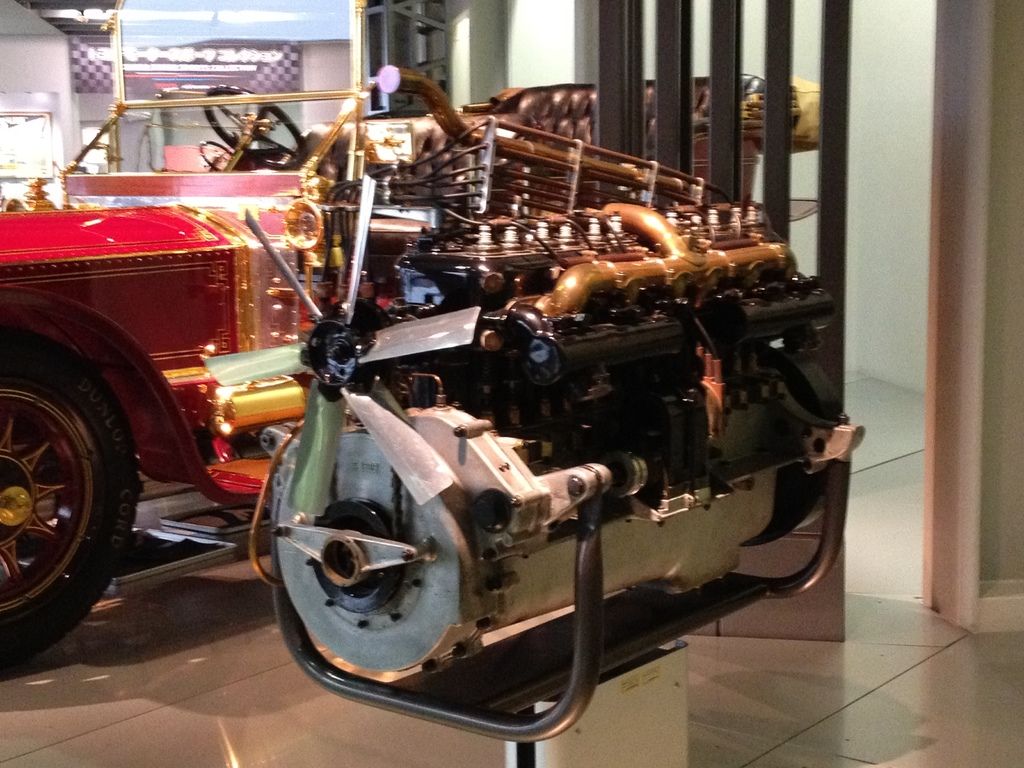Car: (0, 83, 825, 664)
